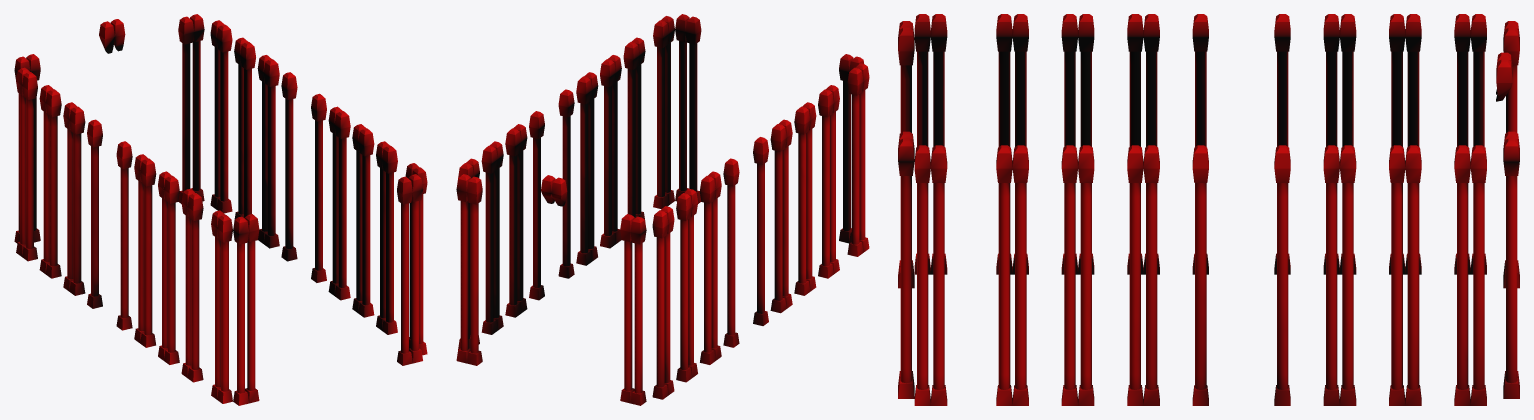
Rendered from OuterPillars_export.obj.
3 views of the same model, side by side, from view 1: azimuth 30°, elevation 25°; view 2: azimuth 150°, elevation 25°; view 3: azimuth 270°, elevation 25° (orthographic). The views are drawn at different scales.
Parts seen in each view (by area): view 1: OuterPillars; view 2: OuterPillars; view 3: OuterPillars.
Part boxes in pixels (x1,y1,x2,y2): OuterPillars: (14, 14, 427, 405); OuterPillars: (456, 14, 869, 405); OuterPillars: (898, 14, 1519, 405).
Size of the model in its own units: 20 by 18.84 by 38.
